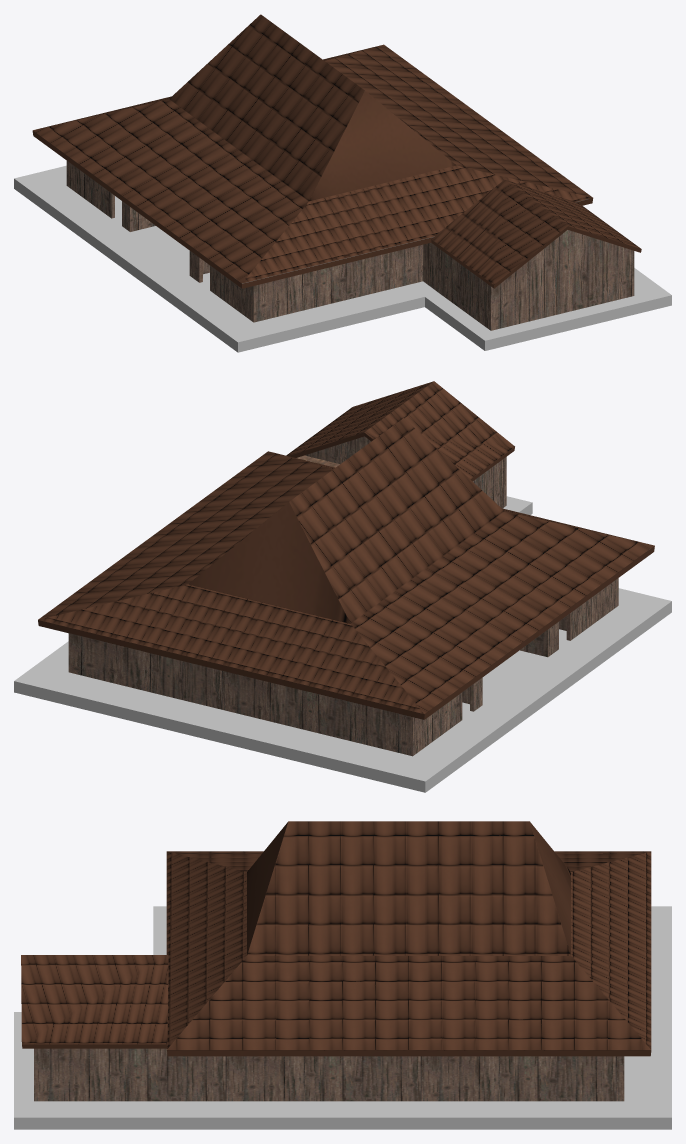
The model's file is Asset Main Building_V2.fbx_secondary_house_2.fbx.
3 views of the same model, one above another, from view 1: azimuth 30°, elevation 25°; view 2: azimuth 150°, elevation 25°; view 3: azimuth 270°, elevation 25° (orthographic). The views are drawn at different scales.
Parts seen in each view (by area): view 1: main roof_2, wall_2, floor_2, small roof; view 2: main roof_2, floor_2, wall_2, small roof; view 3: main roof_2, wall_2, floor_2, small roof.
Part boxes in pixels (x1,y1,x2,y2): main roof_2: [32, 14, 593, 288]; wall_2: [66, 161, 634, 330]; floor_2: [14, 165, 671, 352]; small roof: [431, 179, 641, 288]; main roof_2: [38, 418, 654, 719]; floor_2: [14, 496, 671, 792]; wall_2: [68, 436, 618, 756]; small roof: [286, 381, 514, 481]; main roof_2: [166, 821, 651, 1056]; wall_2: [34, 1048, 624, 1101]; floor_2: [14, 906, 671, 1129]; small roof: [21, 955, 168, 1048].
Bounding box in the file's own units: 18800 × 8371 × 24745.
